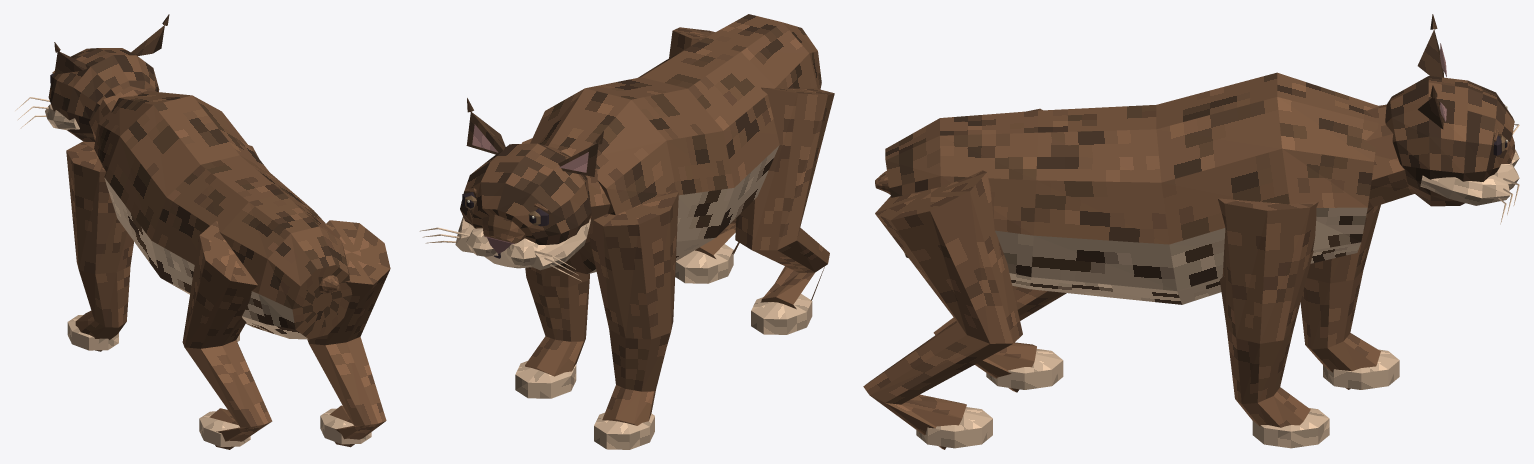
File: mon_bobcat.glb
The picture shows the model from 3 angles, left to right: view 1: azimuth 30°, elevation 25°; view 2: azimuth 150°, elevation 25°; view 3: azimuth 270°, elevation 25°; orthographic projection. The views are drawn at different scales.
Parts seen in each view (by area): view 1: closed_body; view 2: closed_body; view 3: closed_body.
Boxes of the visible parts, <box> form: closed_body: <box>15,14,390,449</box>; closed_body: <box>419,14,834,449</box>; closed_body: <box>863,14,1519,449</box>.
Bounding box in the file's own units: 0.2416 × 0.4417 × 0.7099.
1 material, 1 textured.
